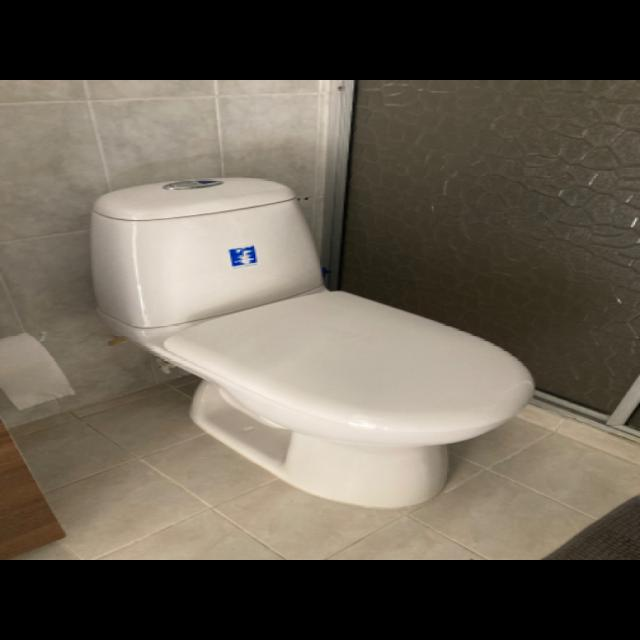toilet: (86, 168, 552, 516)
